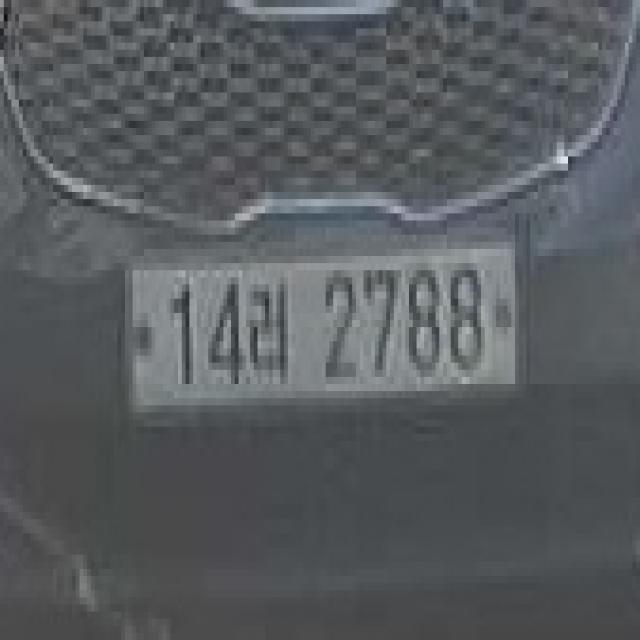1: (167, 270, 204, 398)
2: (322, 263, 360, 391)
4: (205, 270, 246, 398)
7: (360, 256, 401, 391)
8: (443, 249, 489, 384), (405, 256, 447, 384)
leo: (246, 270, 299, 398)
license_plate: (117, 220, 534, 441)
